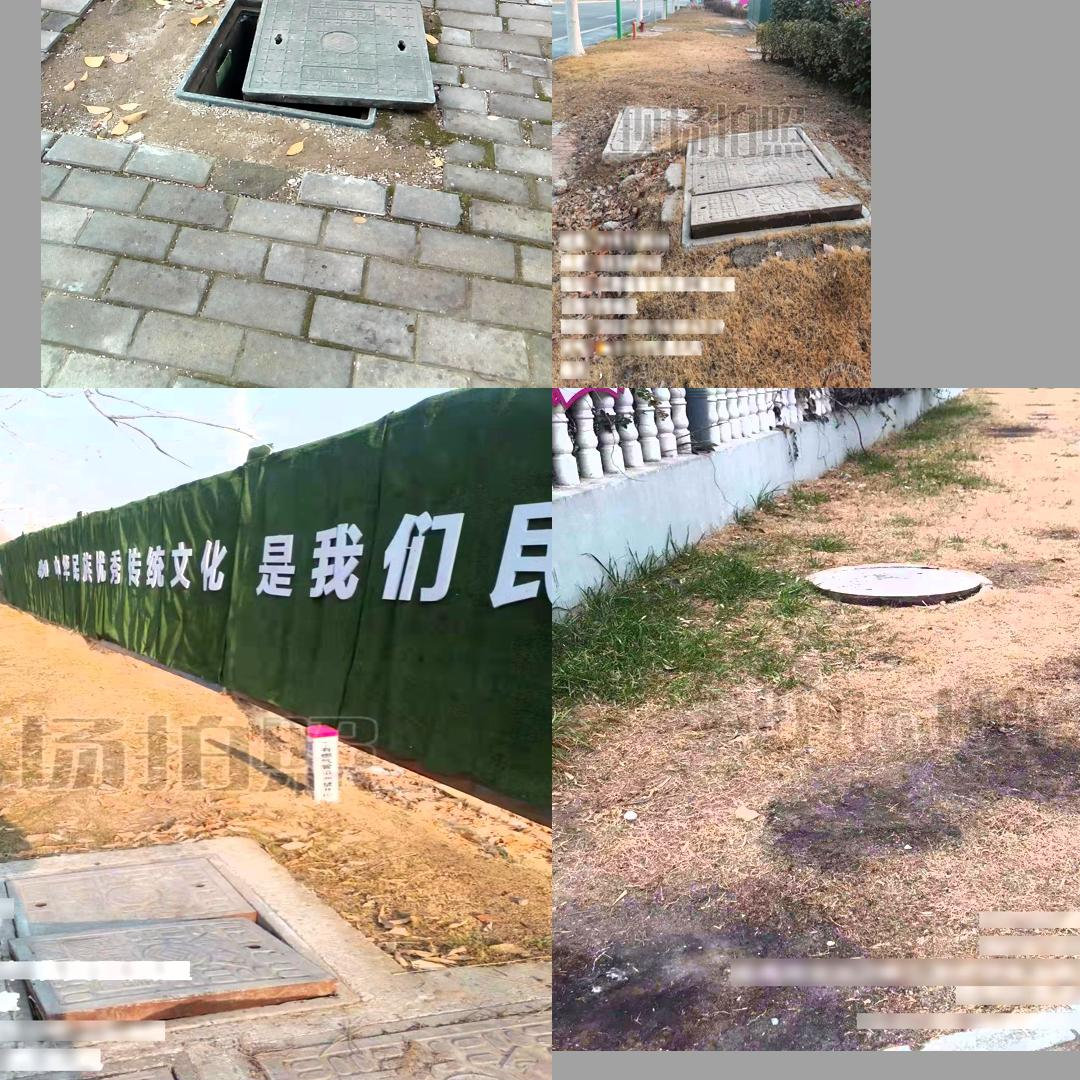good: (601, 104, 701, 165)
uncovered: (0, 853, 356, 1004), (175, 0, 438, 125), (681, 126, 871, 248), (803, 563, 984, 610)
